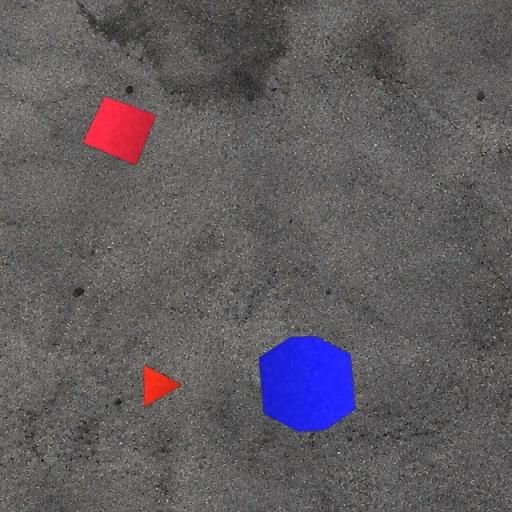RED_SQUARE: (82, 96, 157, 166)
